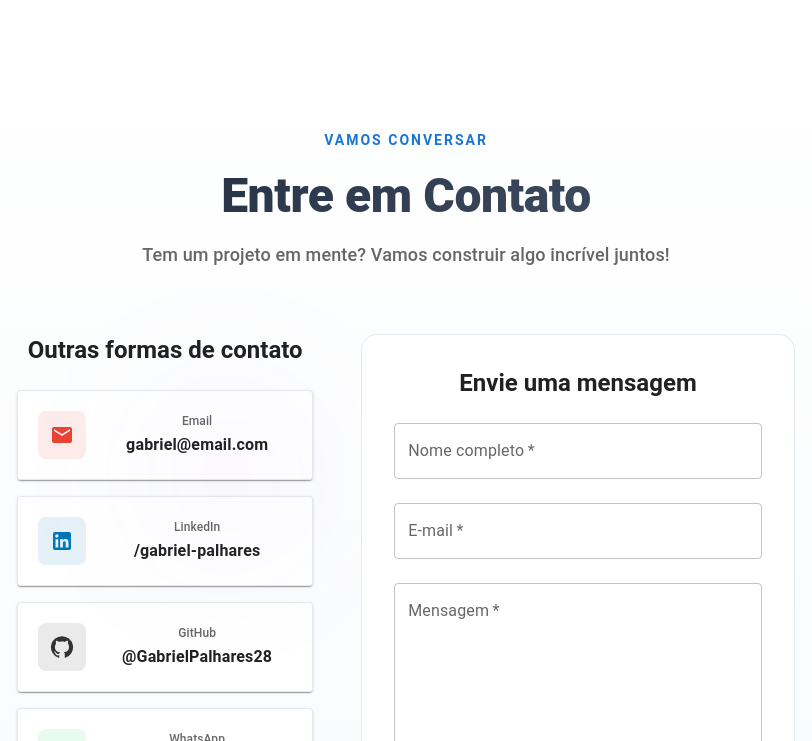
Test: Contact › lets the user dismiss the feedback snackbar
The width and height of the screenshot is (812, 741).
Type "Gabriel Palhares" into the field labelled "Nome completo *" at {"x": 578, "y": 451}, box [394,423,762,479]
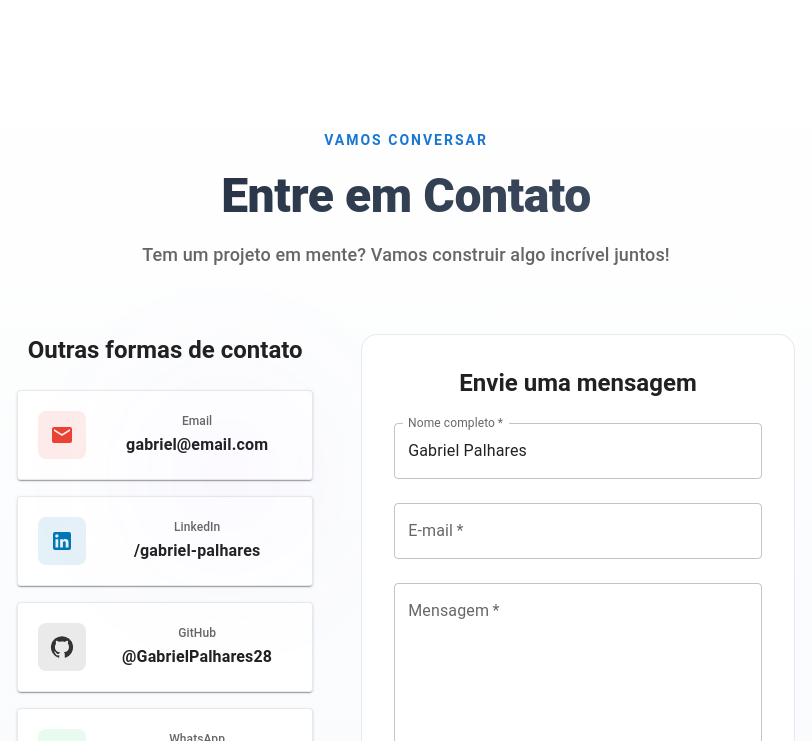
Type "gabriel@example.com" into the field labelled "E-mail *" at {"x": 578, "y": 531}, box [394,503,762,559]
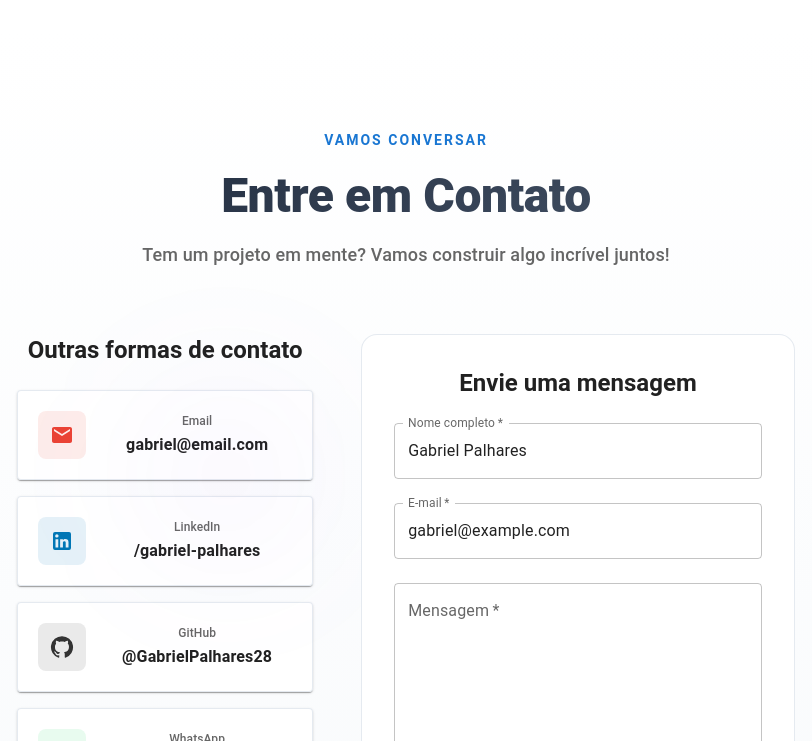
Type "Mensagem com mais de dez caracteres" into the text box labelled "Mensagem *" at {"x": 578, "y": 668}, box [408,599,748,737]
(page scrolled)
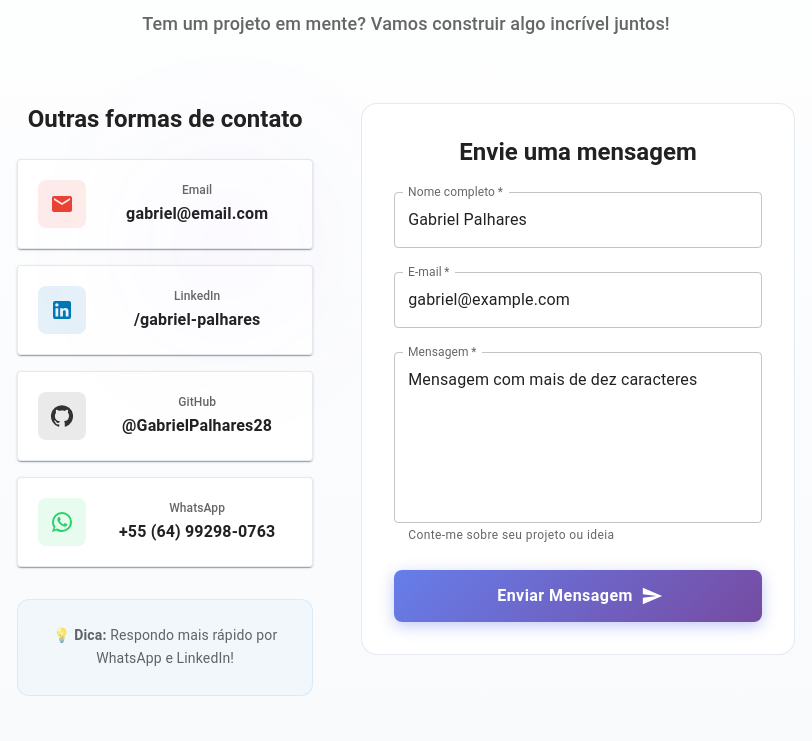
Submit the form, box [361,103,795,654]
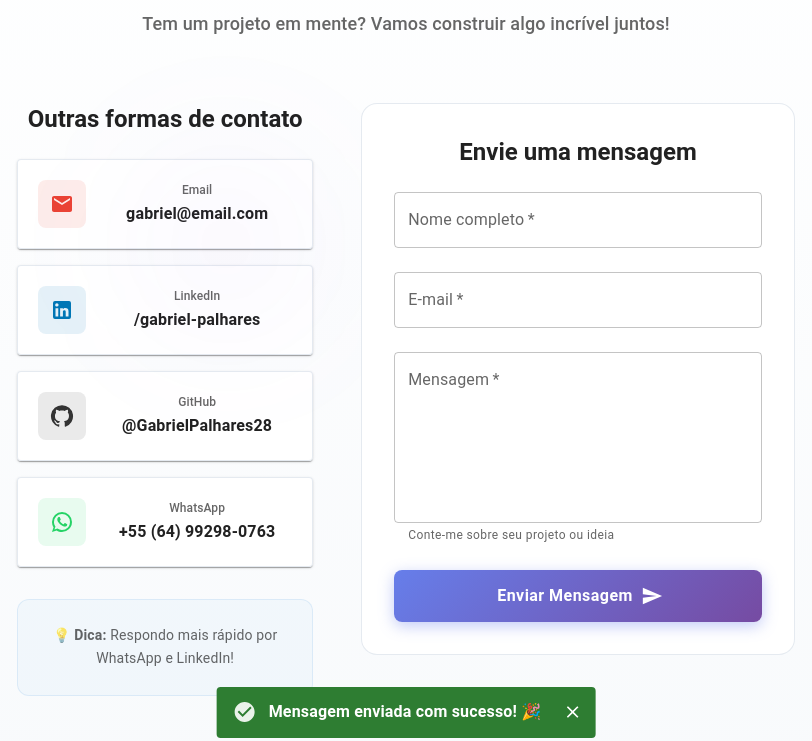
Click the button named "close" at {"x": 572, "y": 712}, box [557,697,587,727]
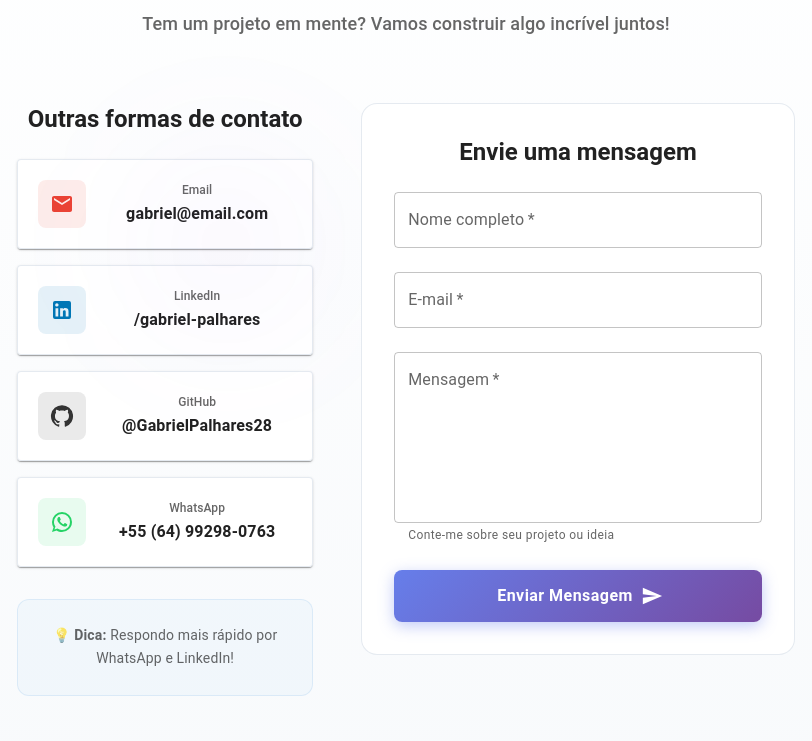
Expected: the message "Mensagem enviada com sucesso! 🎉" is gone
